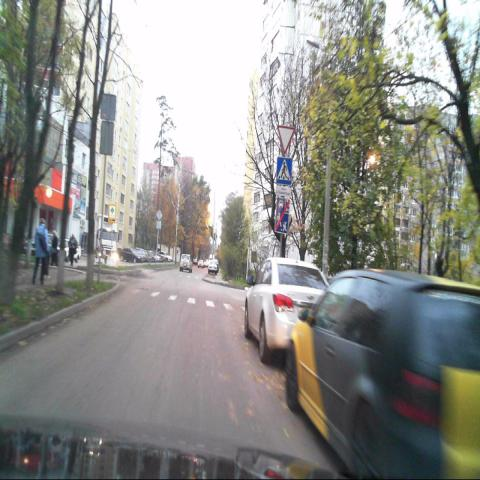5_22: (275, 198, 288, 233)
